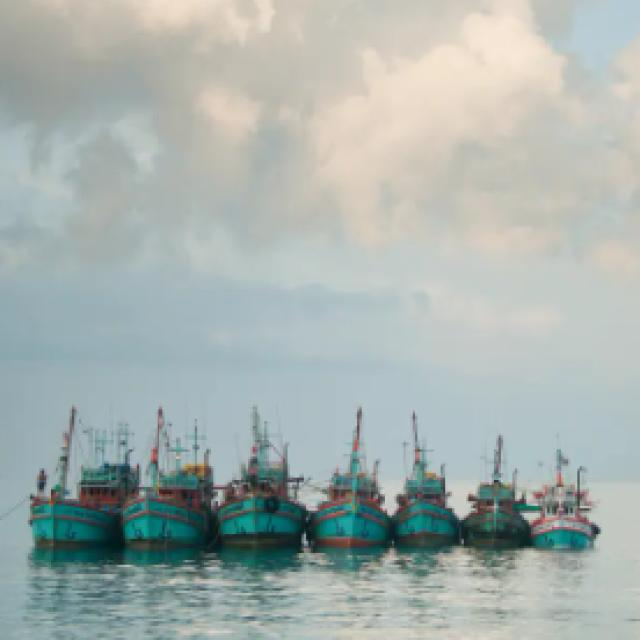fishing boat: (23, 410, 137, 548), (113, 400, 219, 544), (306, 407, 396, 553), (218, 404, 307, 544), (387, 411, 463, 547), (465, 427, 531, 551), (532, 442, 600, 552)
